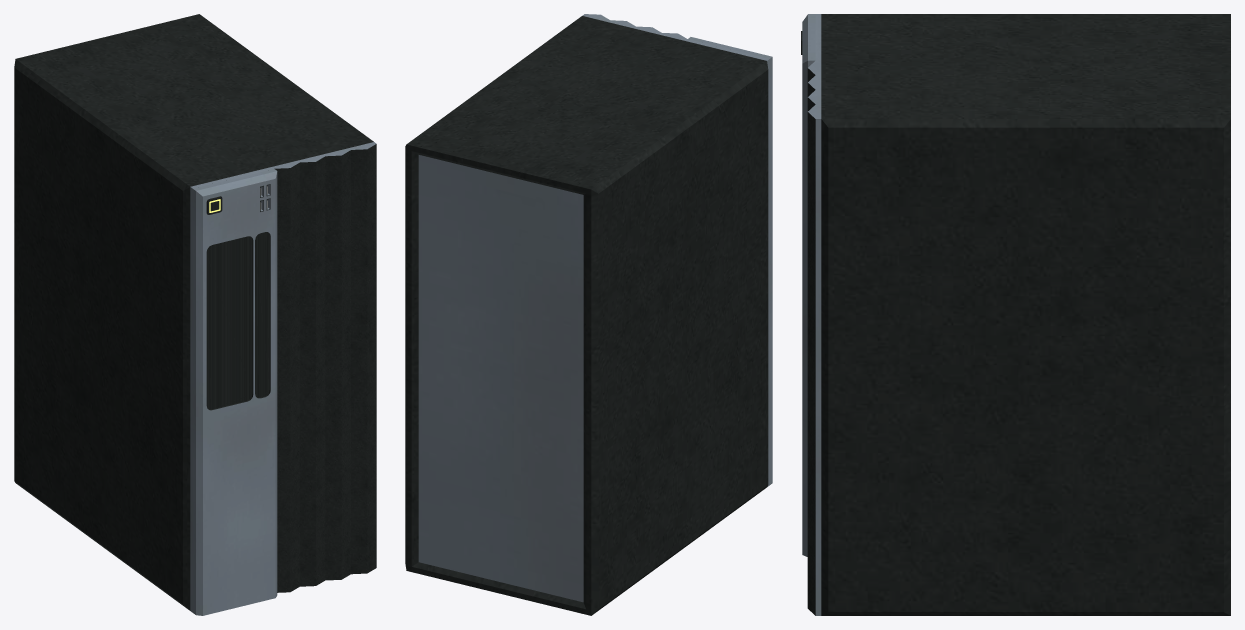
3 renders of one model, left to right at view 1: azimuth 30°, elevation 25°; view 2: azimuth 150°, elevation 25°; view 3: azimuth 270°, elevation 25°, orthographic. The views are drawn at different scales.
Visible parts, largest first — view 1: pc; view 2: pc; view 3: pc.
Part boxes in pixels (x1=…): pc: x1=14, y1=14, x2=376, y2=615; pc: x1=405, y1=14, x2=772, y2=615; pc: x1=801, y1=14, x2=1230, y2=615.
Size of what is drawn, in the model's own units: 0.3398 by 0.7161 by 0.5614.
Materials: 4 (3 with a texture image).
